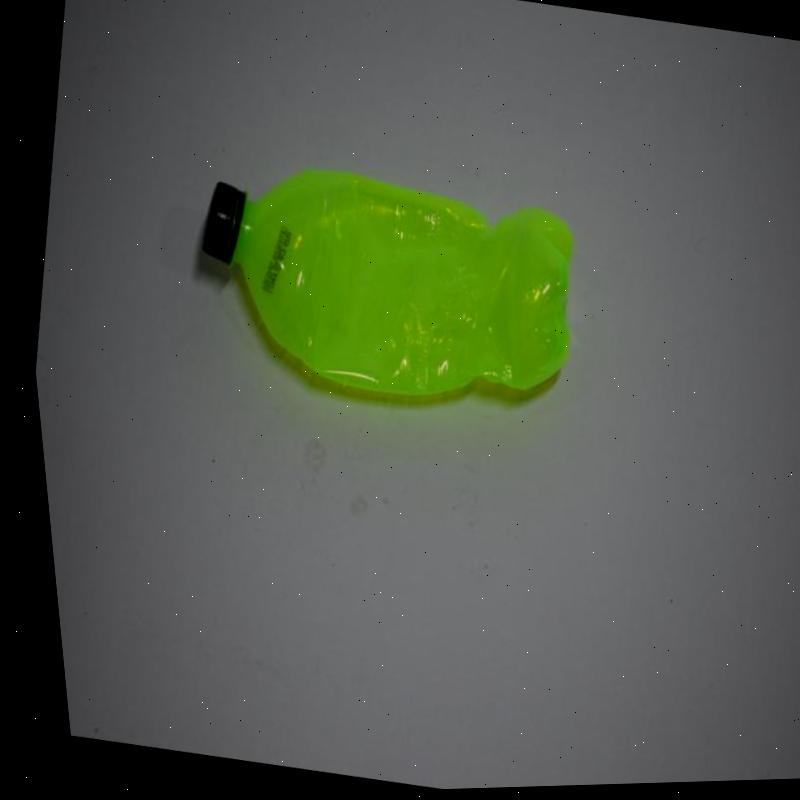botella: (160, 139, 595, 435)
